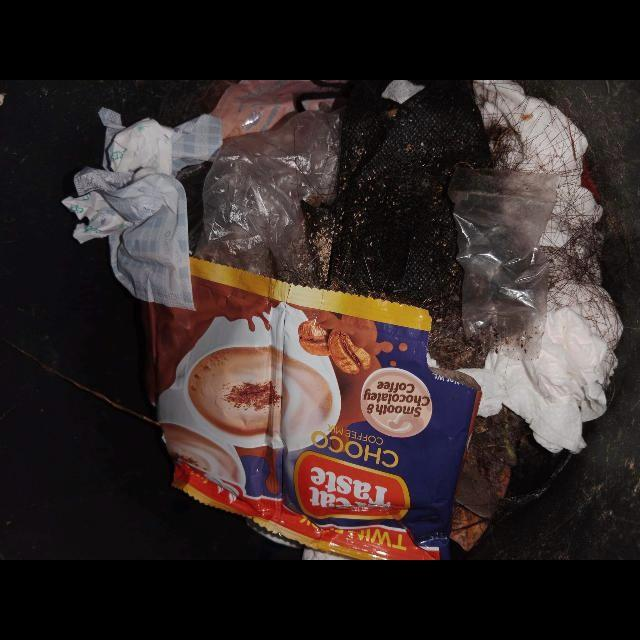food_wrapper: (145, 259, 482, 560)
paper: (459, 80, 624, 455)
plastic_bag: (196, 113, 341, 288), (448, 167, 558, 360)
